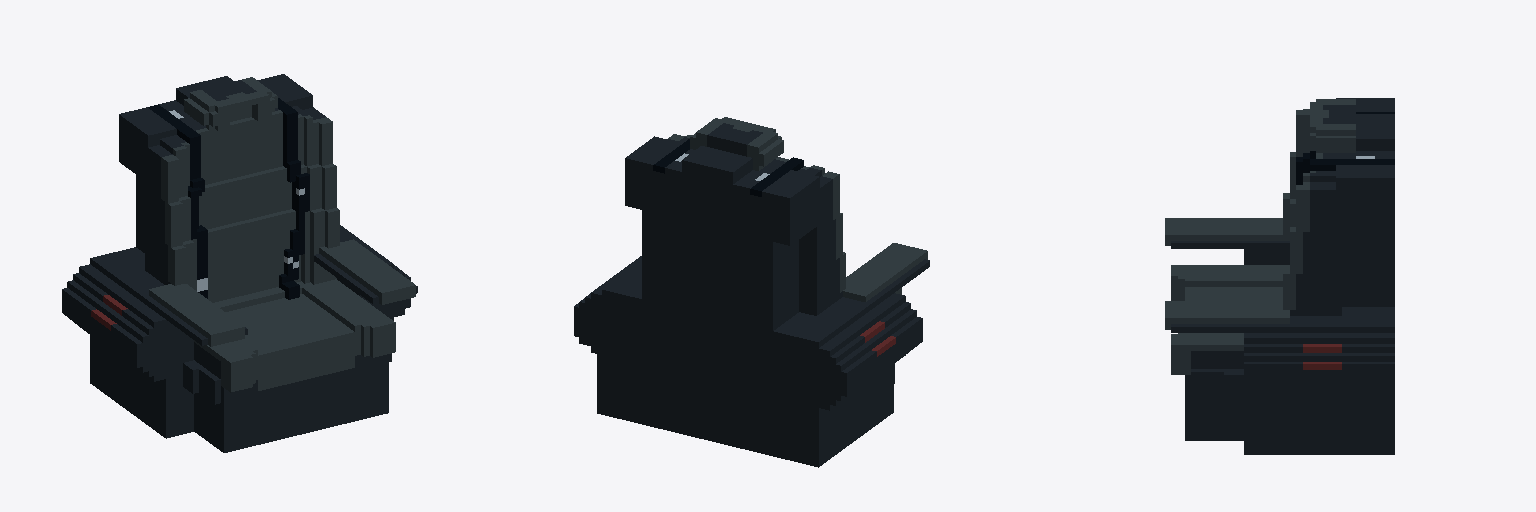
3 renders of one model, left to right at view 1: azimuth 30°, elevation 25°; view 2: azimuth 150°, elevation 25°; view 3: azimuth 270°, elevation 25°, orthographic.
Size of the model in its own units: 48 by 48 by 35.
Materials: 1 (1 with a texture image).